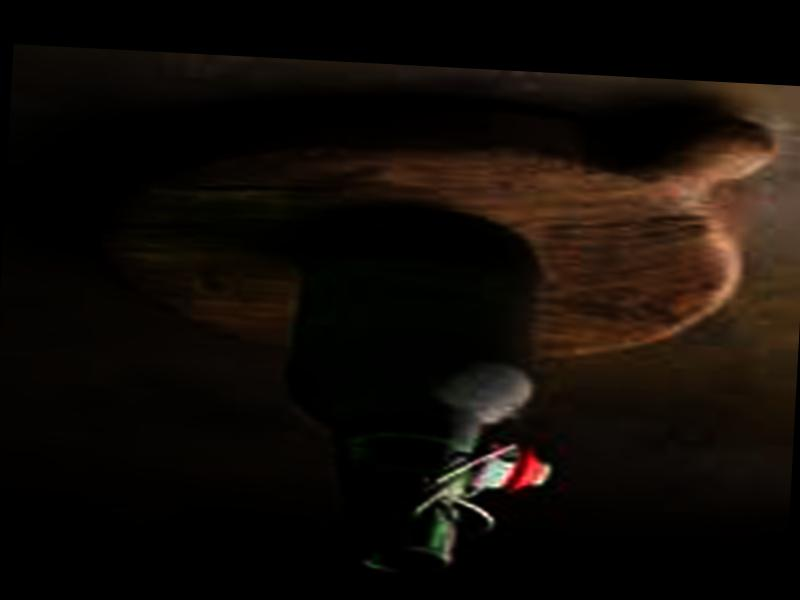Beer: (287, 212, 540, 584)
